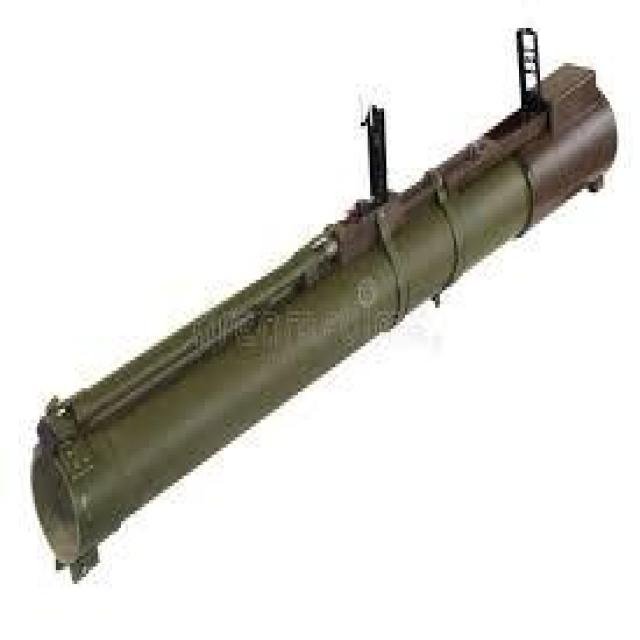bazooka: (24, 18, 623, 601)
